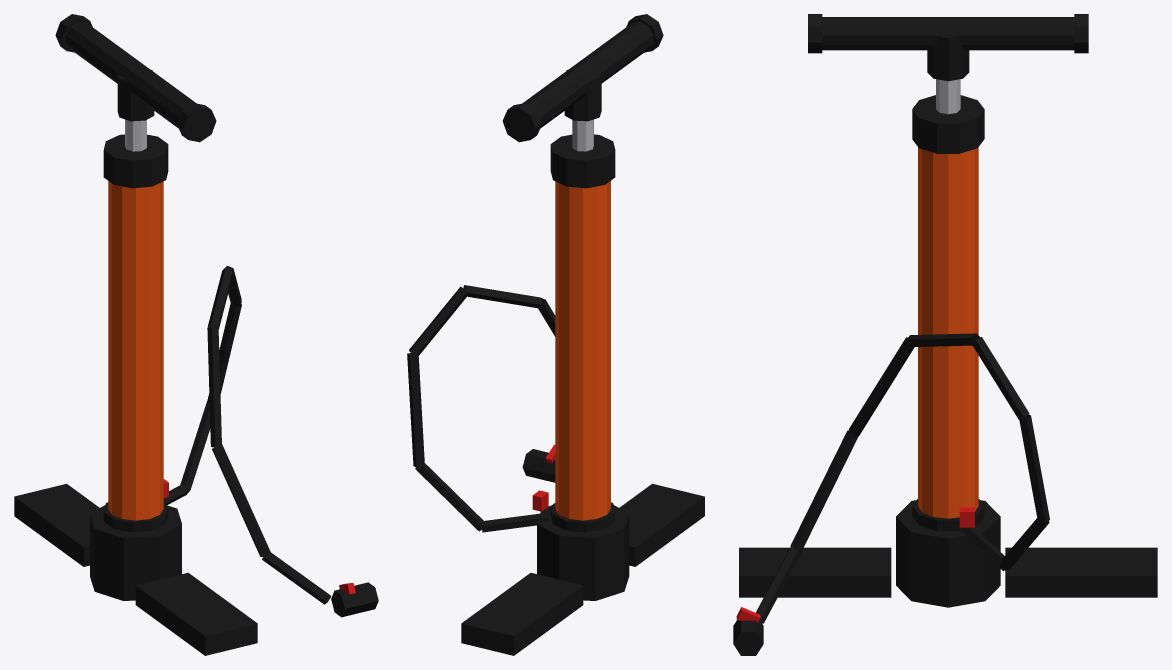
Rendered from bomba-aire.obj.
The picture shows the model from 3 angles, left to right: view 1: azimuth 30°, elevation 25°; view 2: azimuth 150°, elevation 25°; view 3: azimuth 270°, elevation 25°; orthographic projection. The views are drawn at different scales.
Parts seen in each view (by area): view 1: BombaAire; view 2: BombaAire; view 3: BombaAire.
Part boxes in pixels (x1,y1,x2,y2): BombaAire: [14, 14, 378, 655]; BombaAire: [407, 14, 704, 655]; BombaAire: [733, 14, 1157, 655].
Bounding box in the file's own units: 0.2475 × 0.662 × 0.446.
